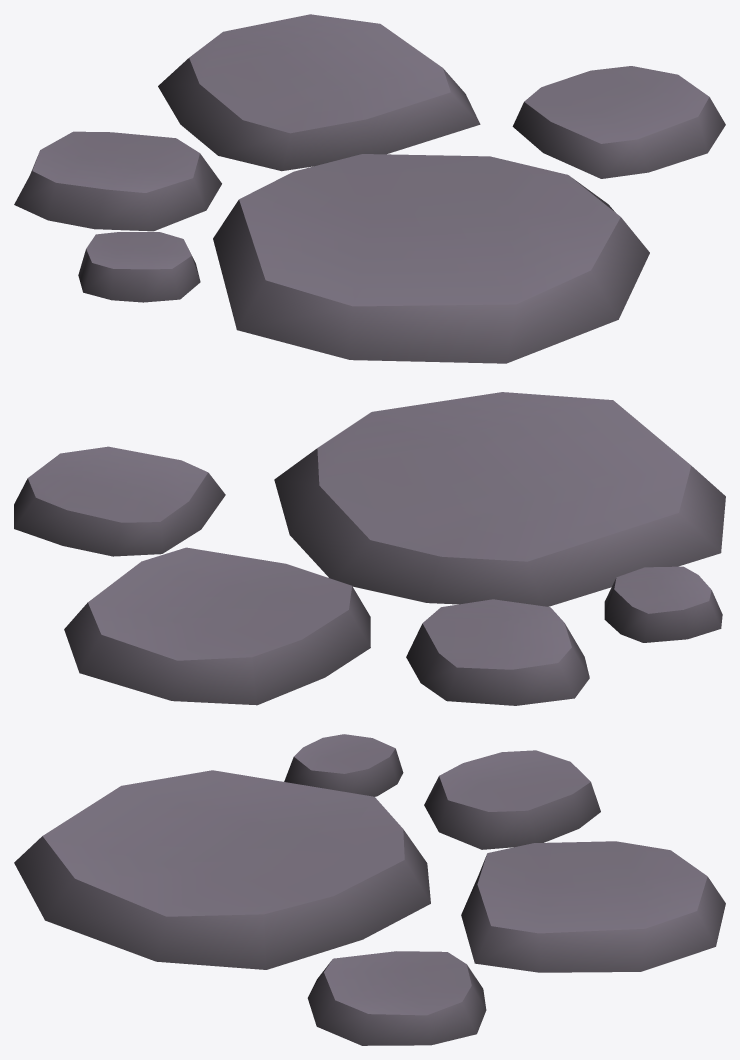
File: gravel_1.glb
The picture shows the model from 3 angles, top to bottom: view 1: azimuth 30°, elevation 25°; view 2: azimuth 150°, elevation 25°; view 3: azimuth 270°, elevation 25°; orthographic projection. The views are drawn at different scales.
Visible parts, largest first — view 1: gravel_1; view 2: gravel_1; view 3: gravel_1.
Boxes of the visible parts, x1,y1,x2,y2 form: gravel_1: (14, 14, 725, 363); gravel_1: (14, 392, 725, 705); gravel_1: (14, 734, 725, 1045).
Bounding box in the file's own units: 1.36 × 0.0856 × 1.4.
1 material, 1 textured.
